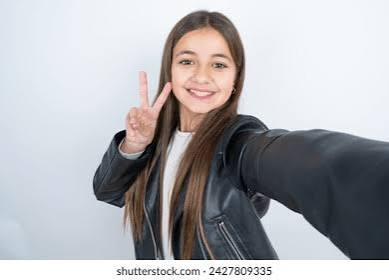peace_sign: (123, 67, 175, 148)
